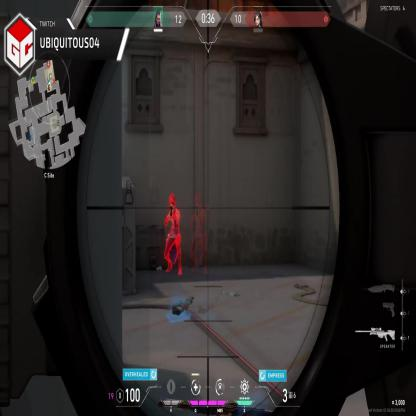enemy: (163, 196, 183, 278)
enemy_head: (168, 197, 176, 212)
